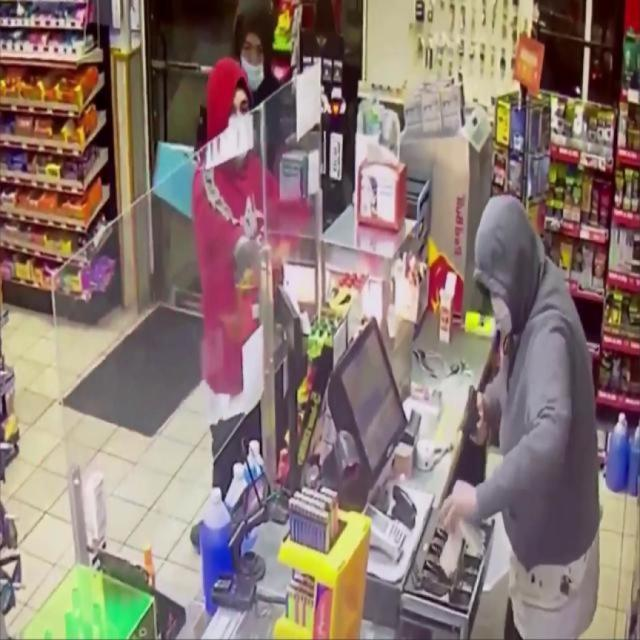pistol: (462, 384, 482, 442)
